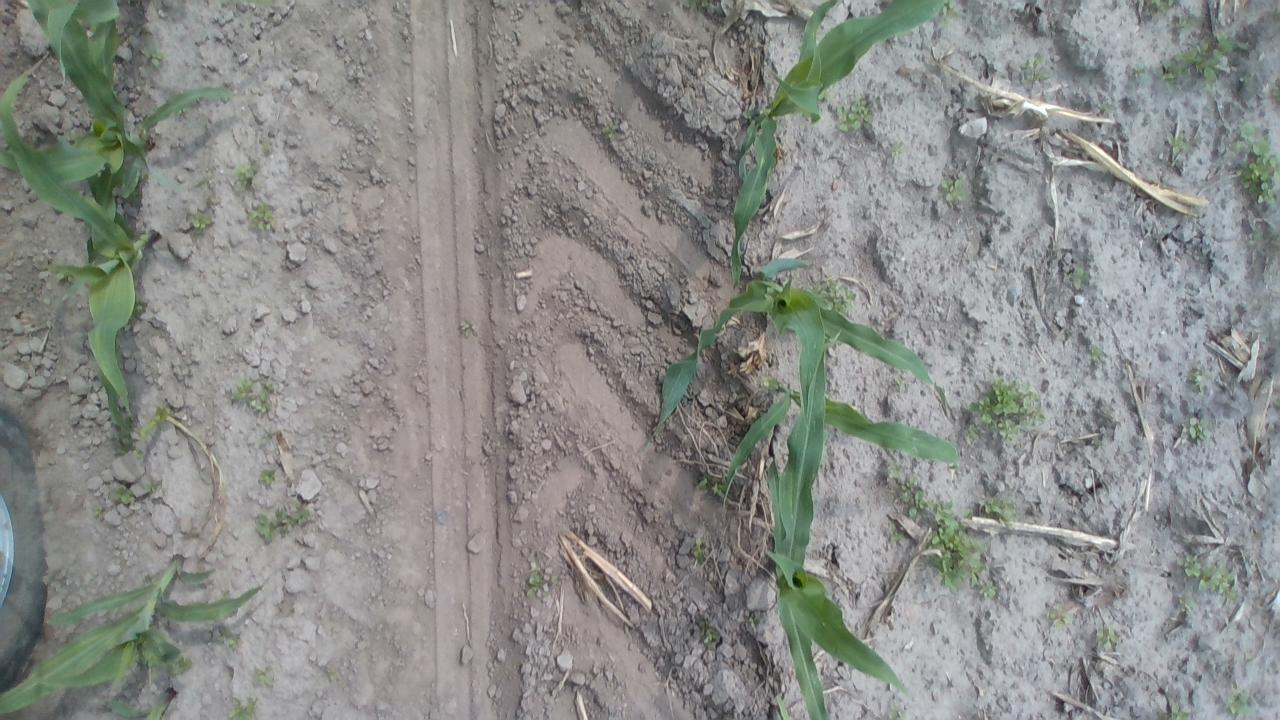Maize: (758, 282, 916, 717), (0, 68, 169, 462), (728, 0, 952, 293), (654, 257, 944, 434), (0, 0, 243, 205), (0, 554, 272, 720), (714, 362, 968, 502), (109, 688, 182, 720)
Weeds: (926, 498, 992, 598), (964, 377, 1044, 443), (1158, 31, 1236, 92), (1229, 118, 1280, 209), (1184, 554, 1240, 608), (254, 499, 316, 544), (802, 278, 858, 322), (131, 403, 172, 461), (228, 374, 276, 415), (524, 558, 562, 606), (834, 92, 876, 134), (982, 494, 1022, 530), (246, 194, 278, 234), (938, 172, 974, 204), (1222, 678, 1252, 716), (1162, 124, 1194, 156), (1090, 621, 1122, 652), (900, 478, 926, 516), (1246, 223, 1274, 258), (1019, 55, 1050, 86), (224, 696, 264, 720), (232, 160, 262, 190), (1044, 601, 1072, 630), (1174, 10, 1206, 35), (197, 174, 220, 207), (213, 626, 240, 654), (48, 262, 76, 288), (252, 664, 278, 692), (1183, 413, 1207, 443), (688, 534, 708, 568), (1144, 0, 1184, 17), (1066, 264, 1092, 290), (1085, 341, 1109, 369), (142, 44, 166, 72), (1155, 701, 1189, 720), (604, 115, 626, 144), (162, 657, 195, 676), (459, 314, 481, 342), (188, 212, 216, 234), (884, 520, 908, 545), (109, 485, 138, 505), (976, 578, 1000, 602), (940, 1, 967, 22), (1178, 590, 1198, 618), (700, 622, 720, 648), (1267, 71, 1280, 110), (1186, 366, 1204, 394), (256, 466, 280, 485), (1096, 98, 1115, 121), (884, 703, 908, 720), (884, 461, 903, 482), (256, 430, 275, 451), (258, 138, 276, 160), (91, 503, 110, 522), (888, 140, 906, 160), (749, 612, 764, 635), (1131, 63, 1148, 82), (710, 483, 726, 502), (323, 668, 339, 686), (142, 480, 164, 492), (892, 376, 909, 390), (1268, 3, 1280, 22), (695, 475, 709, 491), (1274, 395, 1280, 410)
